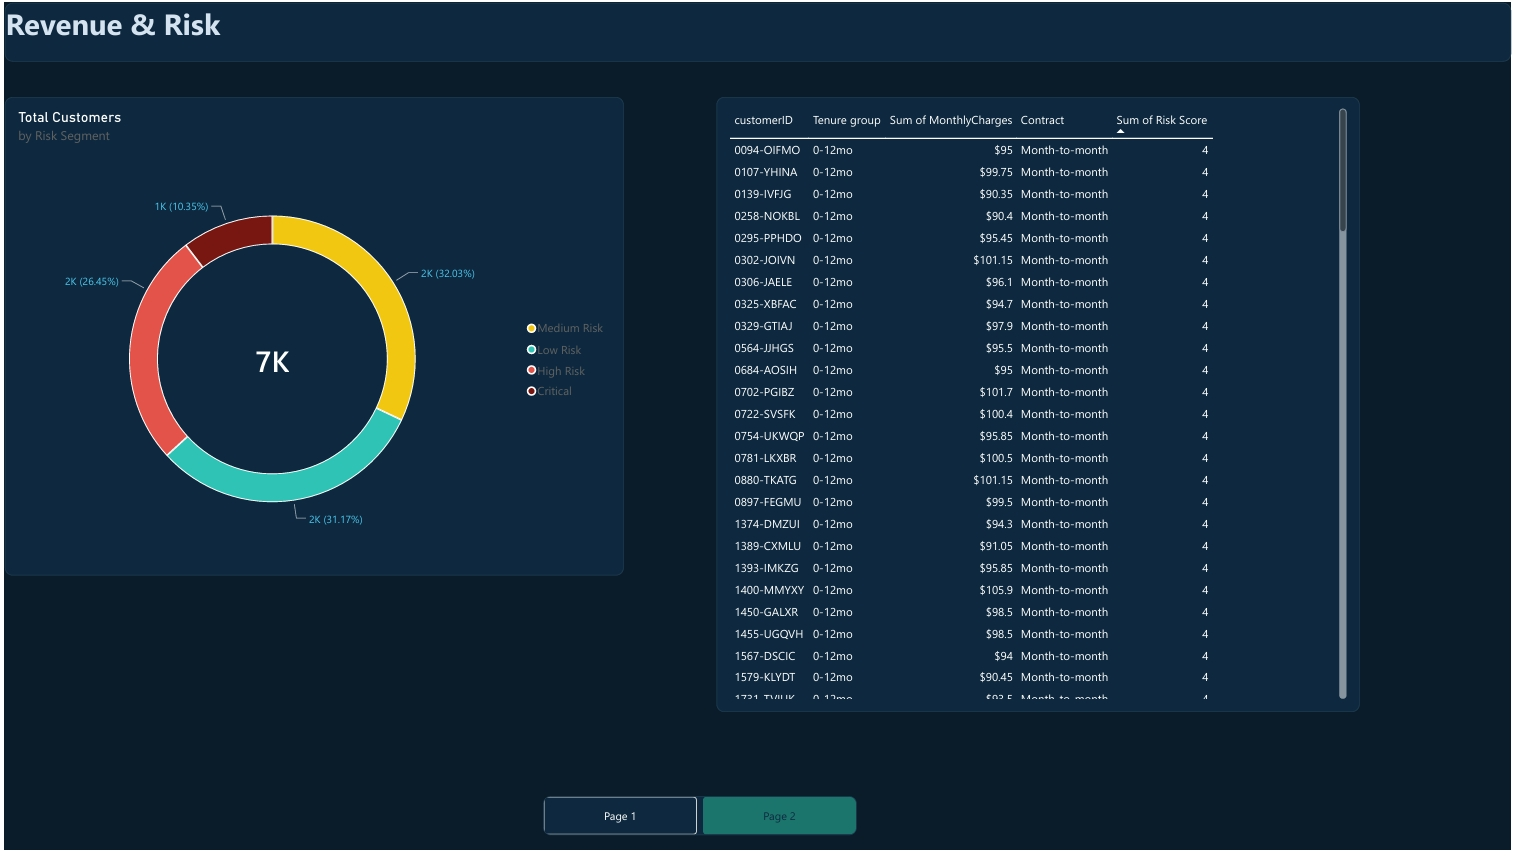

What the dashboard file says about the page in this screenshot:
{"tool":"powerbi","page":{"name":"Page 2","canvas":[1920,1080],"ordinal":1},"visuals":[{"type":"donutChart","fields":{"Category":["Telco.Risk Segment"],"Y":["Telco.Total Customers"]},"box":[0,119.6,789.3,610.7],"z":0},{"type":"pageNavigator","box":[685.7,1010.7,400,50],"z":1},{"type":"tableEx","fields":{"Values":["Telco.customerID","Telco.Tenure group","Sum(Telco.MonthlyCharges)","Telco.Contract","Sum(Telco.Risk Score)"]},"box":[907.1,119.6,819.6,783.9],"z":2},{"type":"textbox","box":[0,0,1919.7,75],"z":4}]}

Visuals, with their boxes in screenshot pixels (x1, y1, x2, y2), scaled from the page's 1920x1080 canvas onto the 1518x856 screenshot:
donutChart - Telco.Risk Segment x Telco.Total Customers: crop(0, 95, 624, 579)
pageNavigator: crop(542, 801, 858, 841)
tableEx - Telco.customerID x Telco.Tenure group: crop(717, 95, 1365, 716)
textbox: crop(0, 0, 1517, 59)
